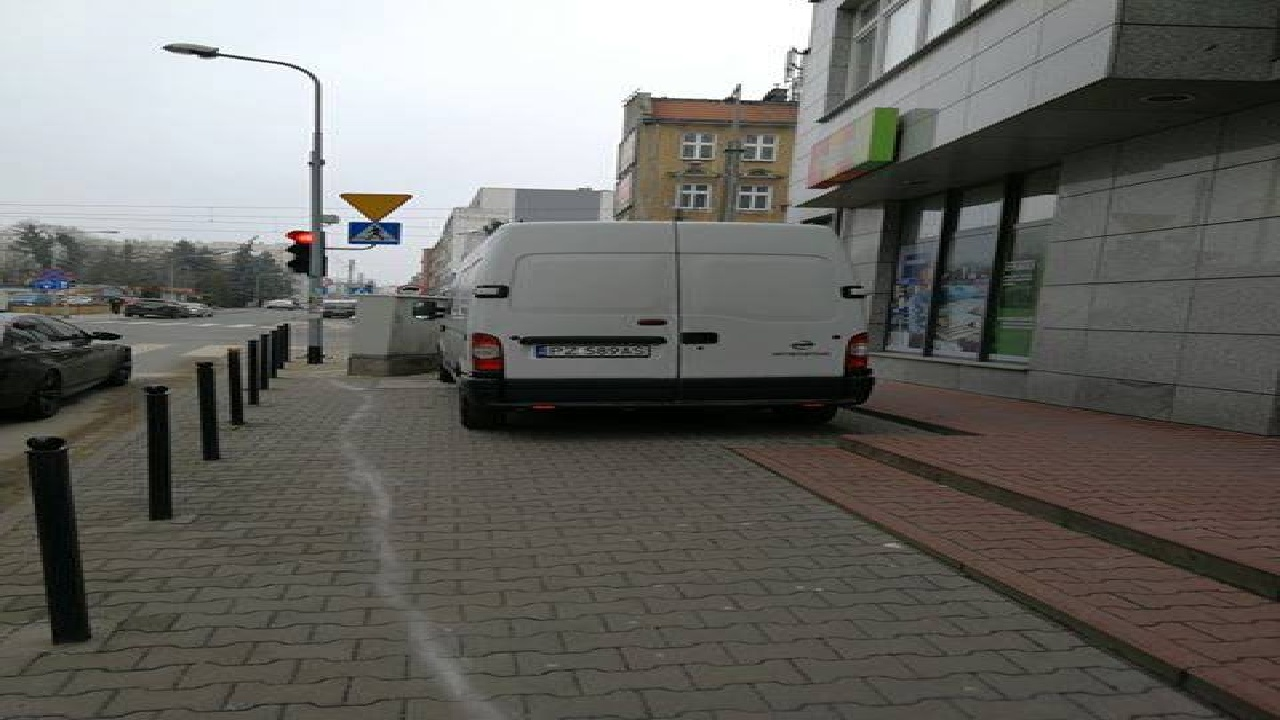A7: (335, 188, 415, 219)
D6: (339, 218, 409, 252)
